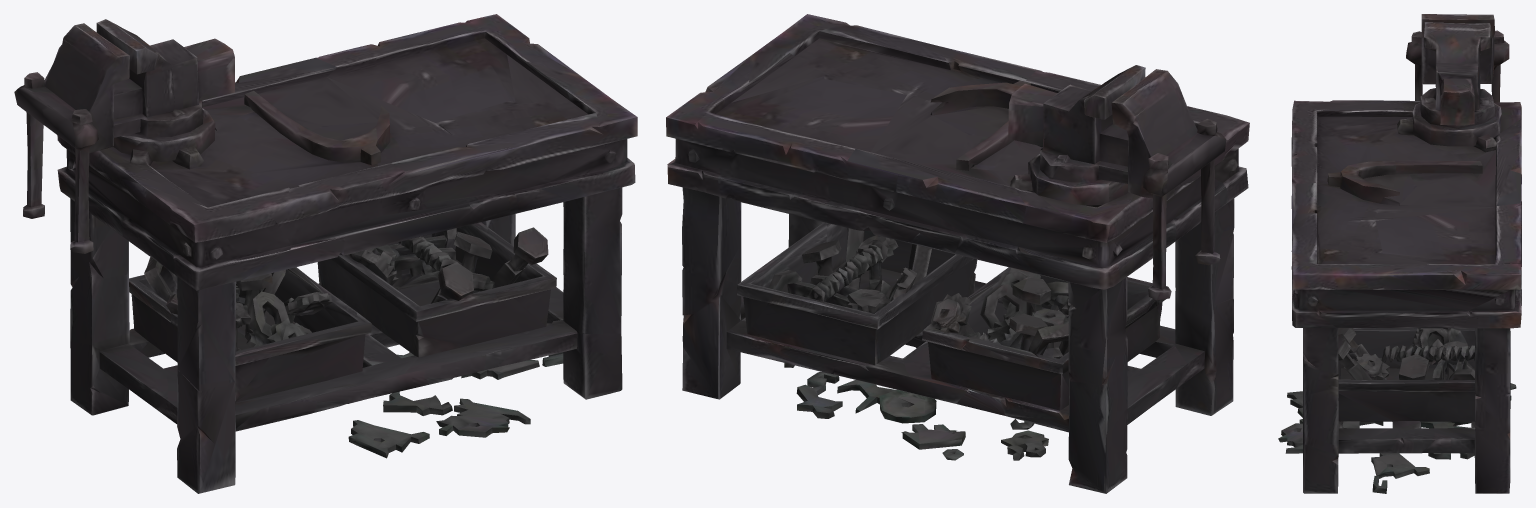
File: recycler_bench_ruchnoy_idle.glb
3 renders of one model, left to right at view 1: azimuth 30°, elevation 25°; view 2: azimuth 150°, elevation 25°; view 3: azimuth 270°, elevation 25°, orthographic. The views are drawn at different scales.
Visible parts, largest first — view 1: tripo_node_5b5f1374-1182-4301-ada2-3837d70ed591; view 2: tripo_node_5b5f1374-1182-4301-ada2-3837d70ed591; view 3: tripo_node_5b5f1374-1182-4301-ada2-3837d70ed591.
Part boxes in pixels (x1=…): tripo_node_5b5f1374-1182-4301-ada2-3837d70ed591: x1=14, y1=14, x2=637, y2=493; tripo_node_5b5f1374-1182-4301-ada2-3837d70ed591: x1=666, y1=14, x2=1249, y2=493; tripo_node_5b5f1374-1182-4301-ada2-3837d70ed591: x1=1278, y1=14, x2=1521, y2=493.
Size of the model in its own units: 1.3 by 0.9761 by 0.6933.
1 material, 1 textured.
